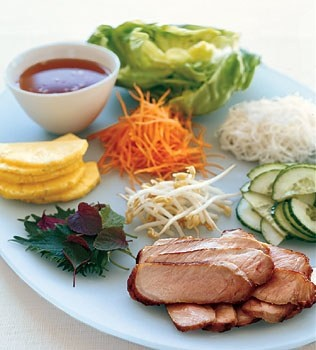background: (0, 10, 156, 182), (9, 20, 54, 51)
